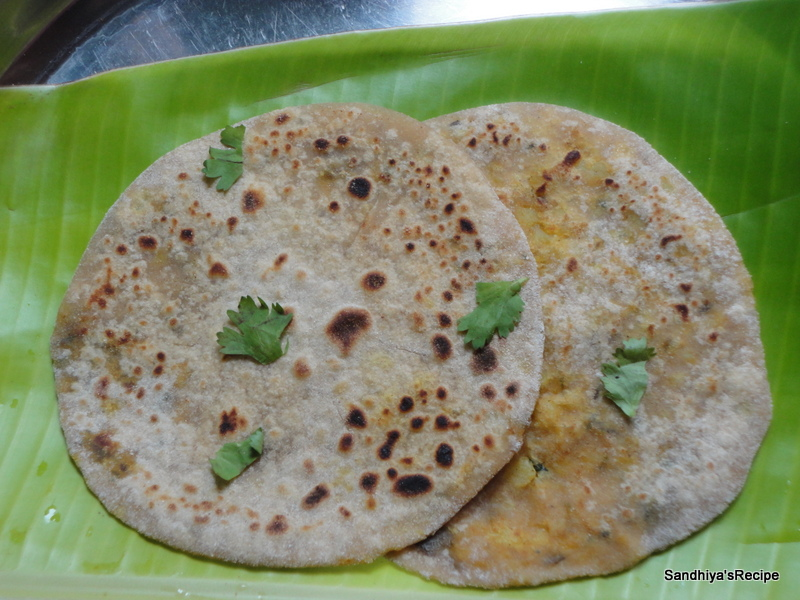aloo_paratha: (45, 99, 777, 594)
